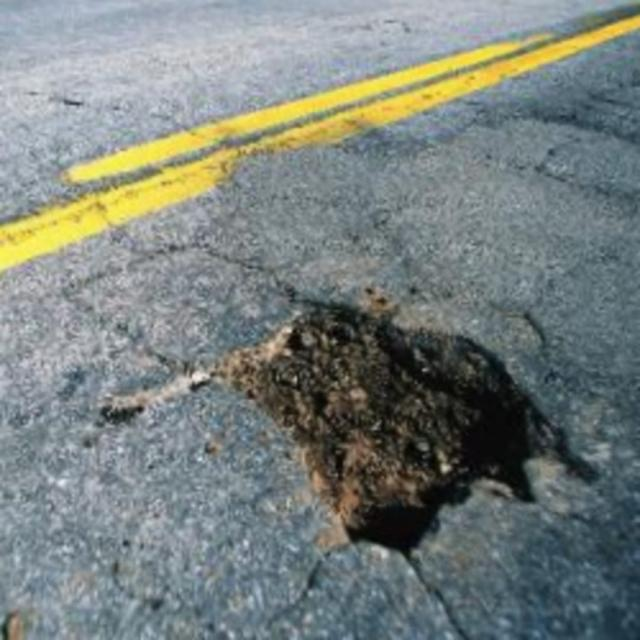pothole: (223, 263, 594, 563)
